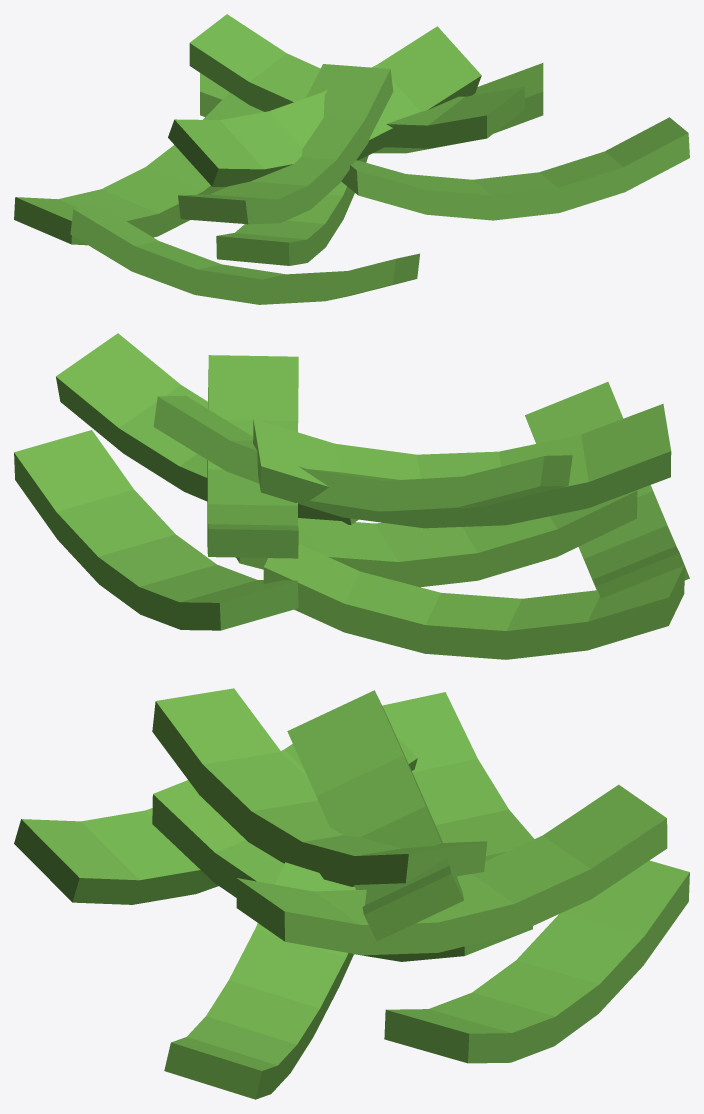
File: lettuce_head_pieces.glb
3 views of the same model, one above another, from view 1: azimuth 30°, elevation 25°; view 2: azimuth 150°, elevation 25°; view 3: azimuth 270°, elevation 25° (orthographic). The views are drawn at different scales.
Parts seen in each view (by area): view 1: lettuce_head_pieces_5, lettuce_head_pieces_3, lettuce_head_pieces_6, lettuce_head_pieces_7, lettuce_head_pieces_4, lettuce_head_pieces_0, lettuce_head_pieces_2, lettuce_head_pieces_1; view 2: lettuce_head_pieces_0, lettuce_head_pieces_1, lettuce_head_pieces_6, lettuce_head_pieces_2, lettuce_head_pieces_5, lettuce_head_pieces_7, lettuce_head_pieces_3, lettuce_head_pieces_4; view 3: lettuce_head_pieces_7, lettuce_head_pieces_1, lettuce_head_pieces_6, lettuce_head_pieces_5, lettuce_head_pieces_3, lettuce_head_pieces_4, lettuce_head_pieces_0, lettuce_head_pieces_2.
Part boxes in pixels (x1,y1,x2,y2): lettuce_head_pieces_5: (168,26,481,186); lettuce_head_pieces_3: (341,117,689,220); lettuce_head_pieces_6: (178,64,393,224); lettuce_head_pieces_7: (189,14,524,148); lettuce_head_pieces_4: (70,204,419,304); lettuce_head_pieces_0: (14,92,263,245); lettuce_head_pieces_2: (216,155,368,265); lettuce_head_pieces_1: (200,63,543,153); lettuce_head_pieces_0: (263,544,684,659); lettuce_head_pieces_1: (14,430,298,630); lettuce_head_pieces_6: (253,404,671,528); lettuce_head_pieces_2: (236,490,637,587); lettuce_head_pieces_5: (153,395,572,511); lettuce_head_pieces_7: (207,355,298,558); lettuce_head_pieces_3: (56,333,358,524); lettuce_head_pieces_4: (525,382,689,598); lettuce_head_pieces_7: (236,784,667,955); lettuce_head_pieces_1: (384,860,689,1063); lettuce_head_pieces_6: (152,688,487,886); lettuce_head_pieces_5: (287,690,463,941); lettuce_head_pieces_3: (164,862,355,1099); lettuce_head_pieces_4: (14,736,417,904); lettuce_head_pieces_0: (382,692,534,861); lettuce_head_pieces_2: (152,780,532,961).
Size of the model in its own units: 0.314 by 0.0716 by 0.2449.
